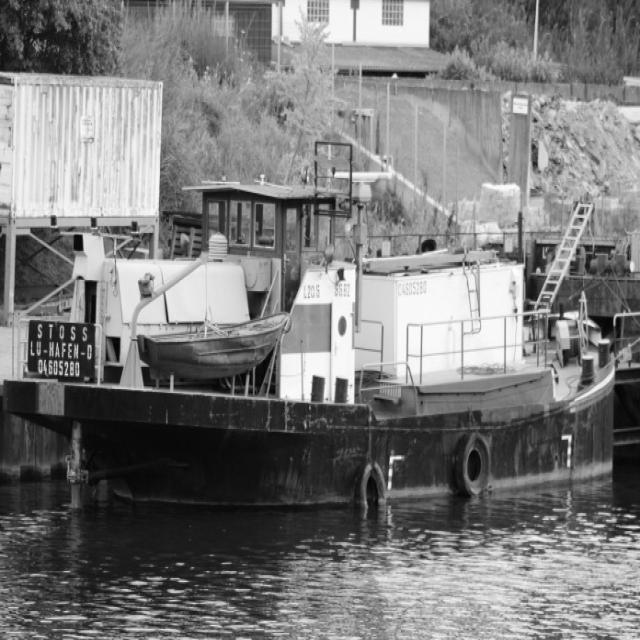tugboat: (2, 139, 616, 525)
